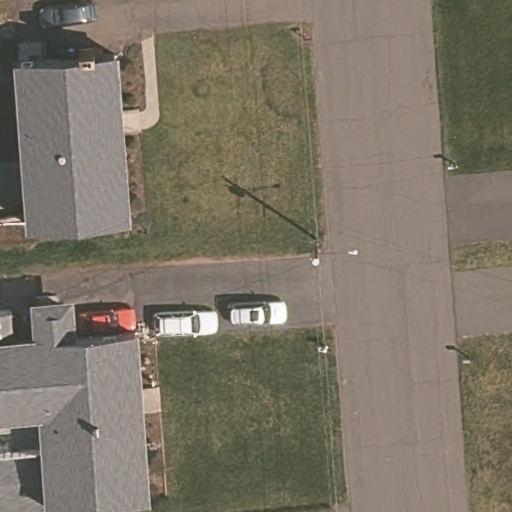DT: (313, 334, 337, 363)
